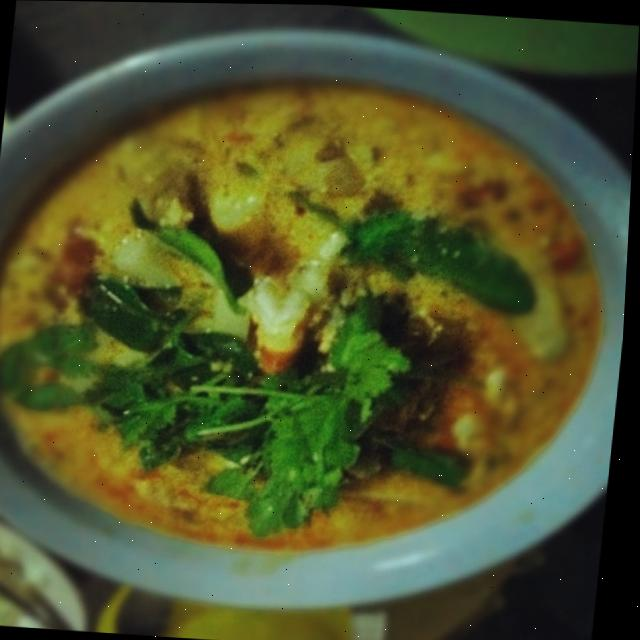汤锅炖物: (0, 35, 618, 640)
